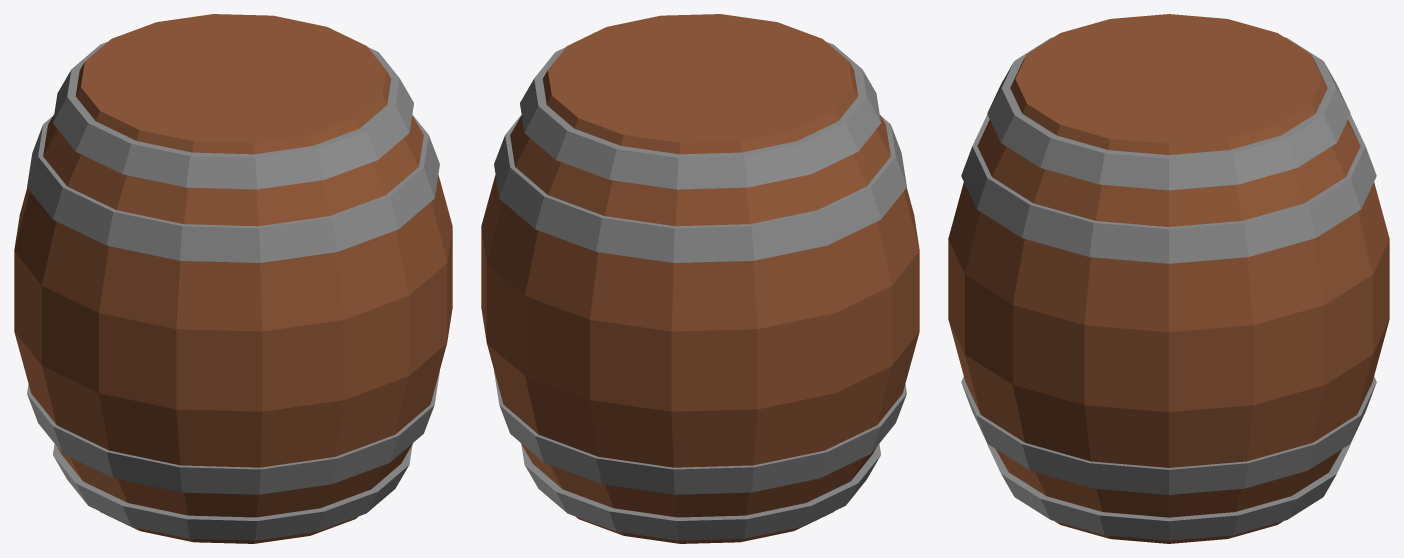
The model's file is barrel.fbx.
The picture shows the model from 3 angles, left to right: view 1: azimuth 30°, elevation 25°; view 2: azimuth 150°, elevation 25°; view 3: azimuth 270°, elevation 25°; orthographic projection.
Parts seen in each view (by area): view 1: Cylinder, Cylinder.001, Cylinder.002; view 2: Cylinder, Cylinder.001, Cylinder.002; view 3: Cylinder, Cylinder.001, Cylinder.002.
Part boxes in pixels (bbox=[...]): Cylinder: bbox=[14, 14, 452, 543]; Cylinder.001: bbox=[27, 115, 439, 494]; Cylinder.002: bbox=[53, 42, 413, 540]; Cylinder: bbox=[481, 14, 919, 543]; Cylinder.001: bbox=[494, 115, 906, 494]; Cylinder.002: bbox=[520, 42, 880, 540]; Cylinder: bbox=[948, 14, 1389, 543]; Cylinder.001: bbox=[961, 114, 1376, 494]; Cylinder.002: bbox=[987, 37, 1350, 540].
Bounding box in the file's own units: 200 × 200 × 200.
